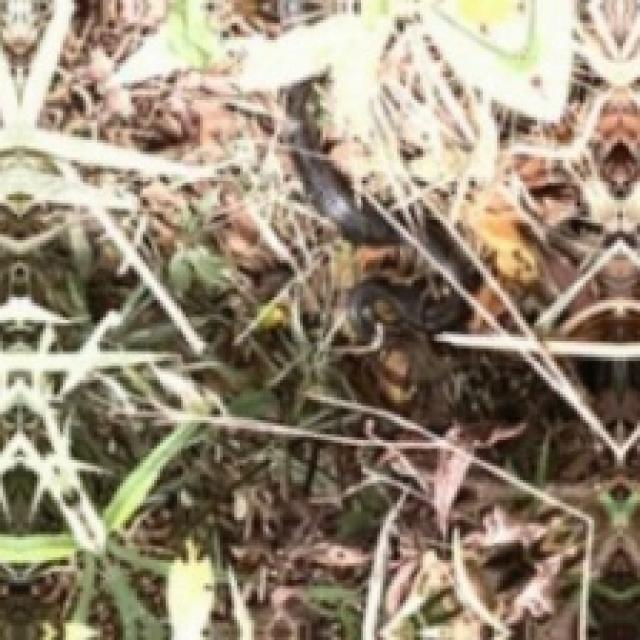king cobra: (297, 0, 637, 437)
